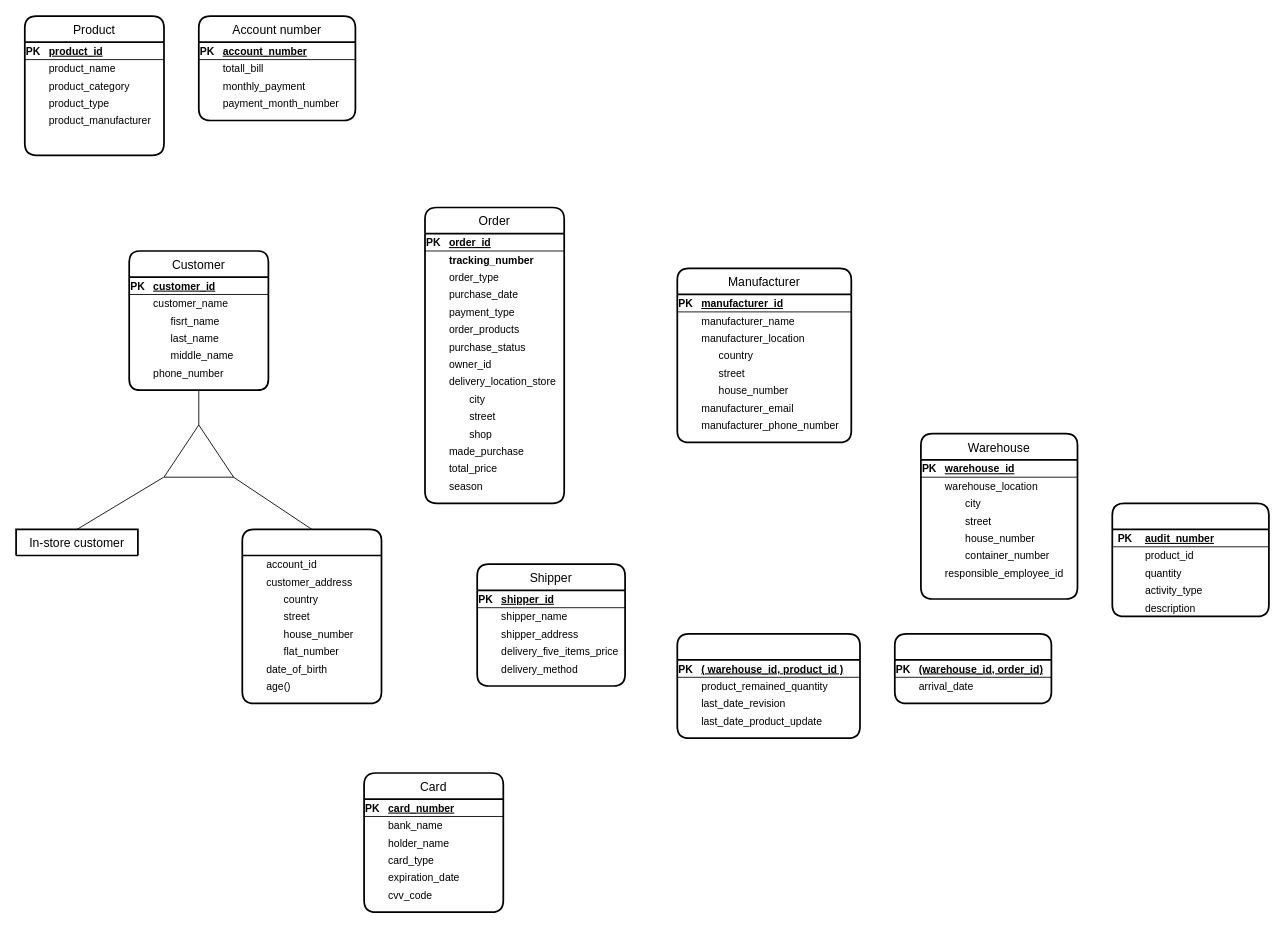
The diagram is 1284 pixels wide and 927 high, and some of its shapes have lost their labels. The box of each missing label's shape, as (x1, y1, x2, y2) in pixels:
Goods_audit: (1111, 502, 1269, 617)
isA: (163, 424, 234, 477)
Online customer: (241, 528, 382, 704)
Warehouse_items: (676, 632, 860, 739)
Warehouse_orders: (893, 632, 1052, 704)
